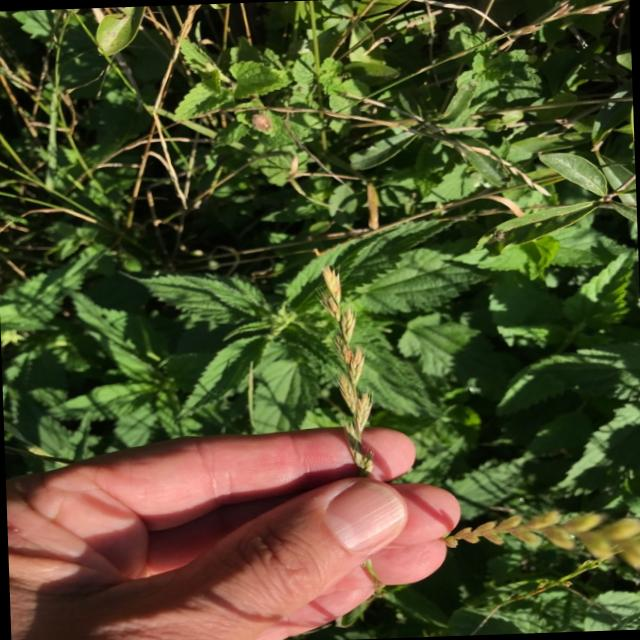Lolium: (309, 262, 379, 478)
